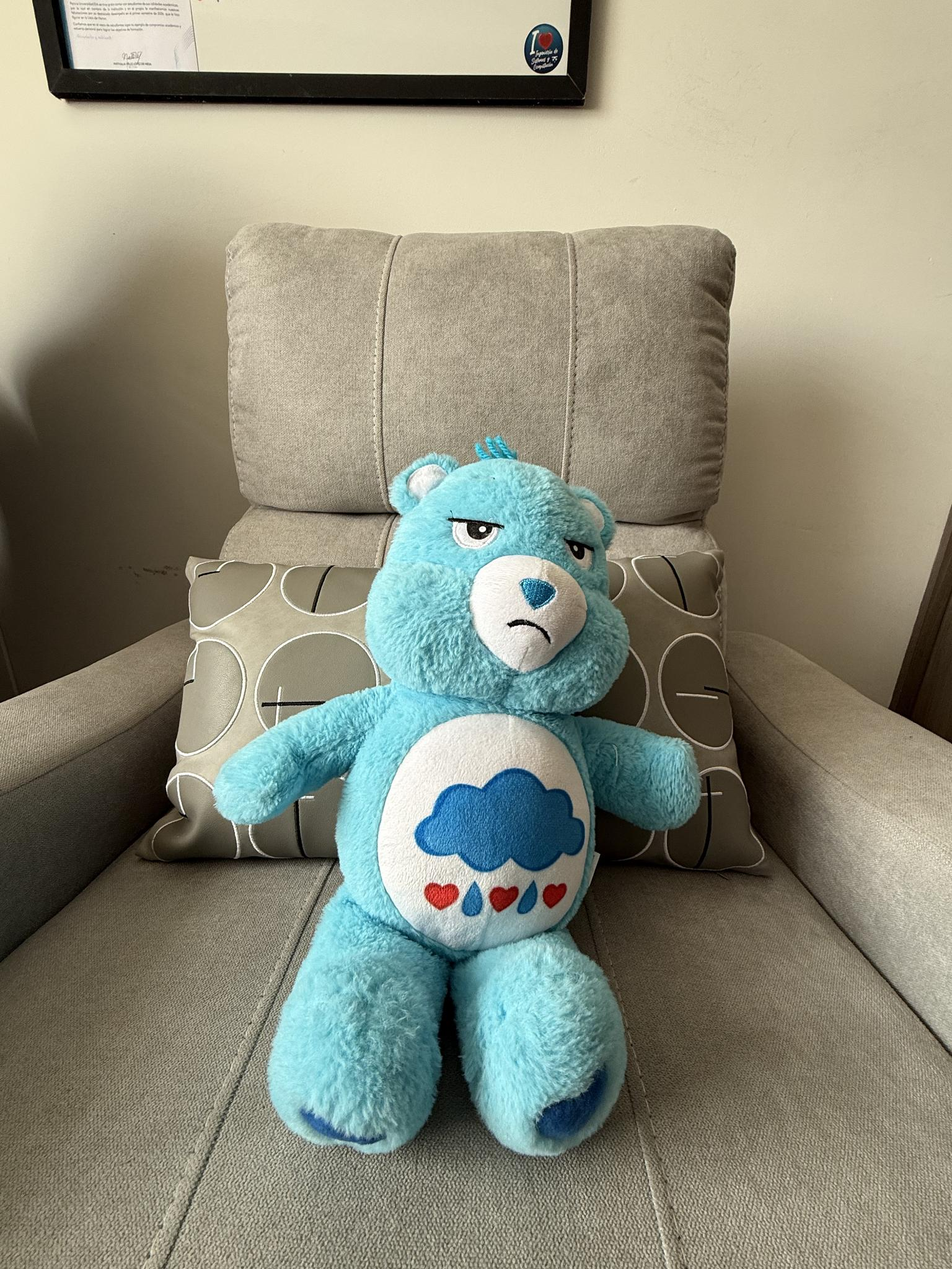peluche_Juan Jose: (212, 430, 703, 1160)
